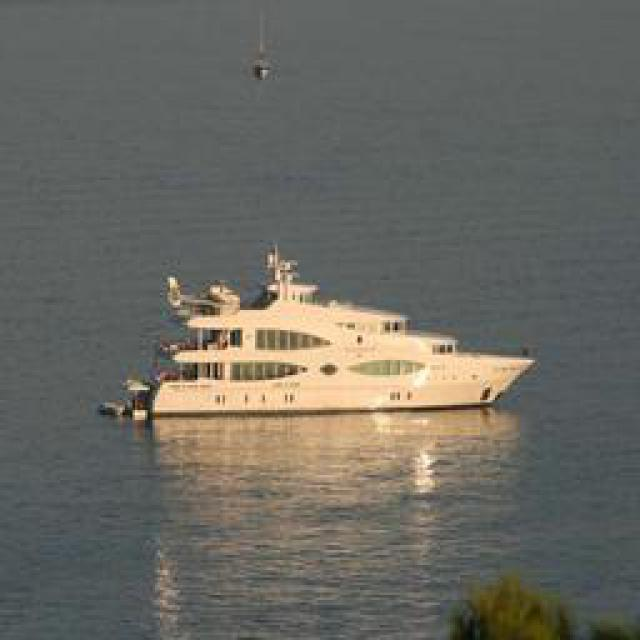Ship: (95, 251, 538, 424)
